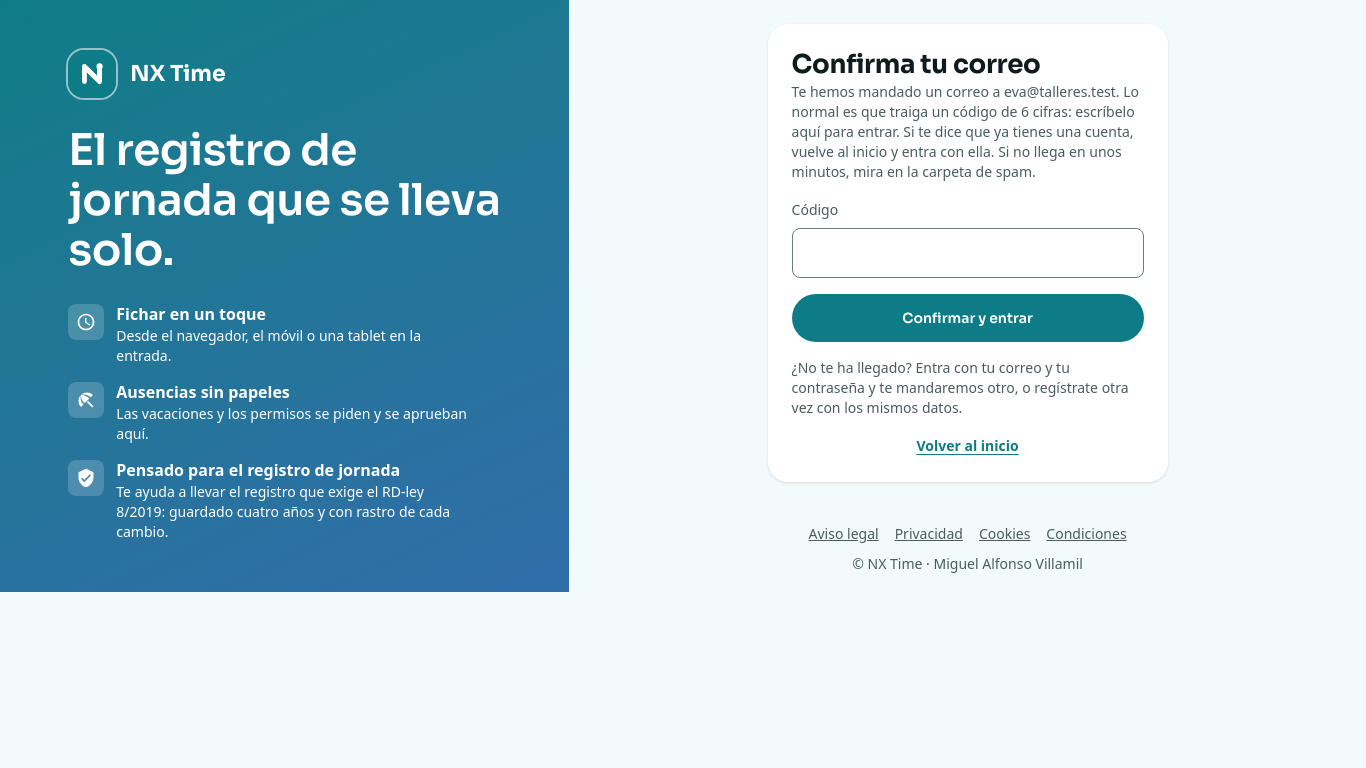
Scenario: entrar sin haber confirmado el correo › un código que no son 6 cifras no se manda
This screenshot has width=1366, height=768.
Type "12ab" into the field labelled "Código".
click(968, 253); type("12ab")  # box [792,228,1144,278]
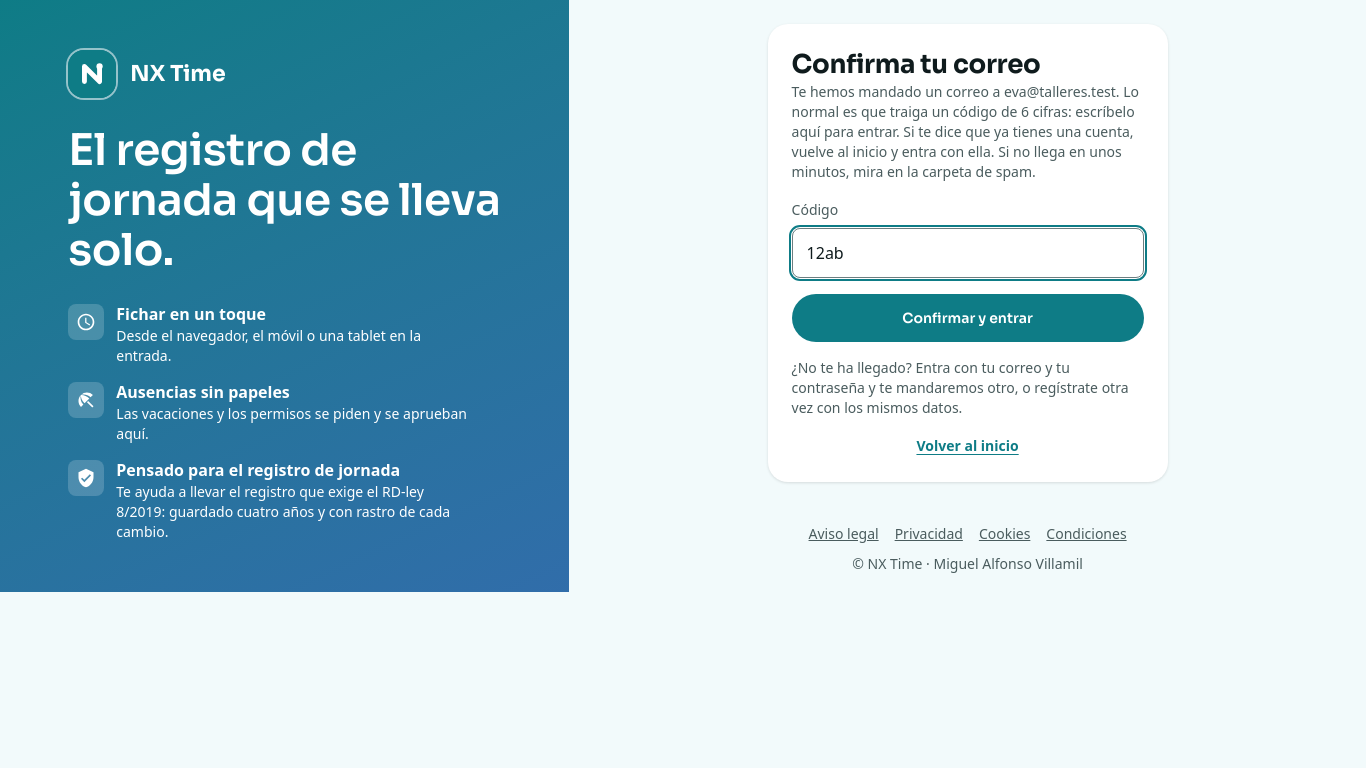
Click the button "Confirmar y entrar".
click(968, 318)  # box [792,294,1144,342]
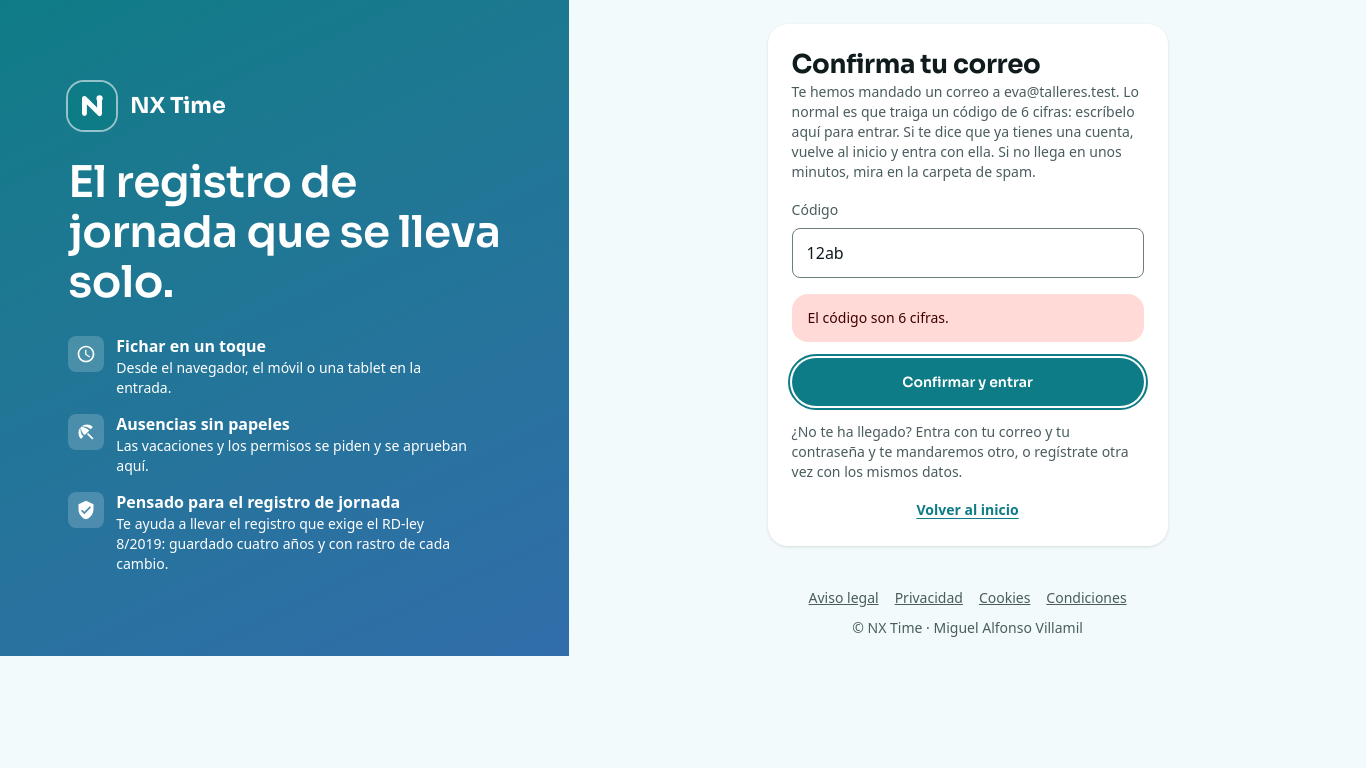
Expected: the message reads "El código son 6 cifras.", [808,308,949,327]
